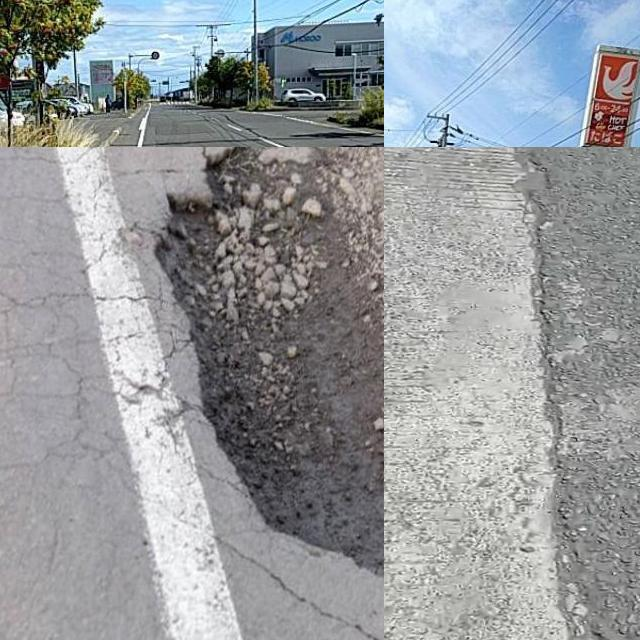Pinggir: (135, 147, 384, 608)
Sambungan: (384, 147, 603, 640)
